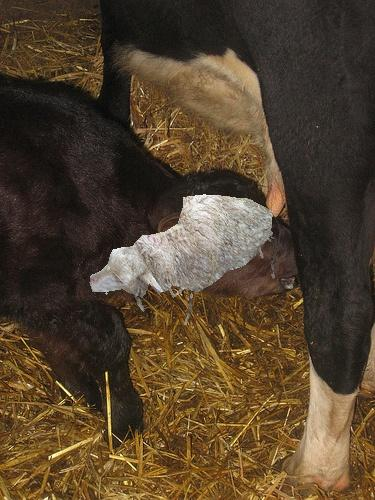tampered: (90, 195, 275, 325)
